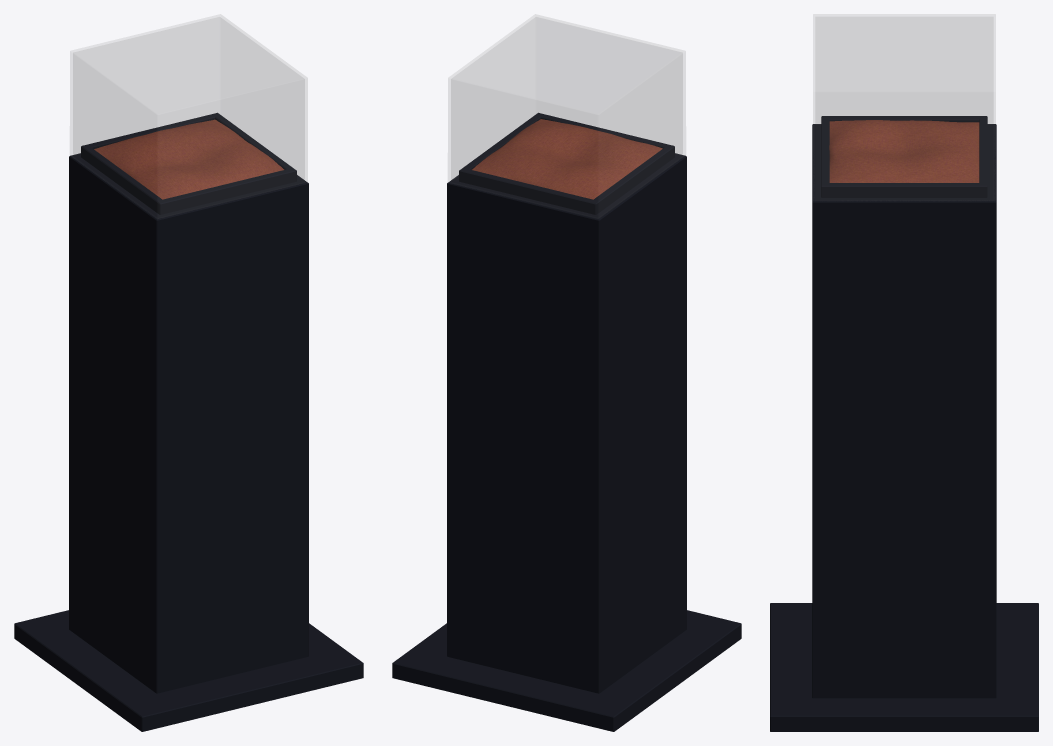
Rendered from display_case_low_poly.glb.
The picture shows the model from 3 angles, left to right: view 1: azimuth 30°, elevation 25°; view 2: azimuth 150°, elevation 25°; view 3: azimuth 270°, elevation 25°; orthographic projection. The views are drawn at different scales.
Parts seen in each view (by area): view 1: Espositore_0; view 2: Espositore_0; view 3: Espositore_0.
Part boxes in pixels (box(x1,y1,x2,y2)): Espositore_0: box(14, 14, 363, 731); Espositore_0: box(392, 14, 741, 731); Espositore_0: box(770, 14, 1038, 731).
Size of the model in its own units: 0.4248 by 1.09 by 0.4248.
Materials: 3 (1 with a texture image).
